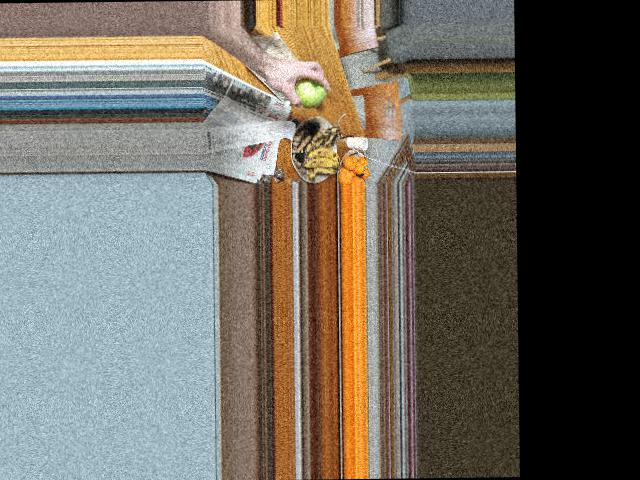apple: (289, 74, 332, 109)
